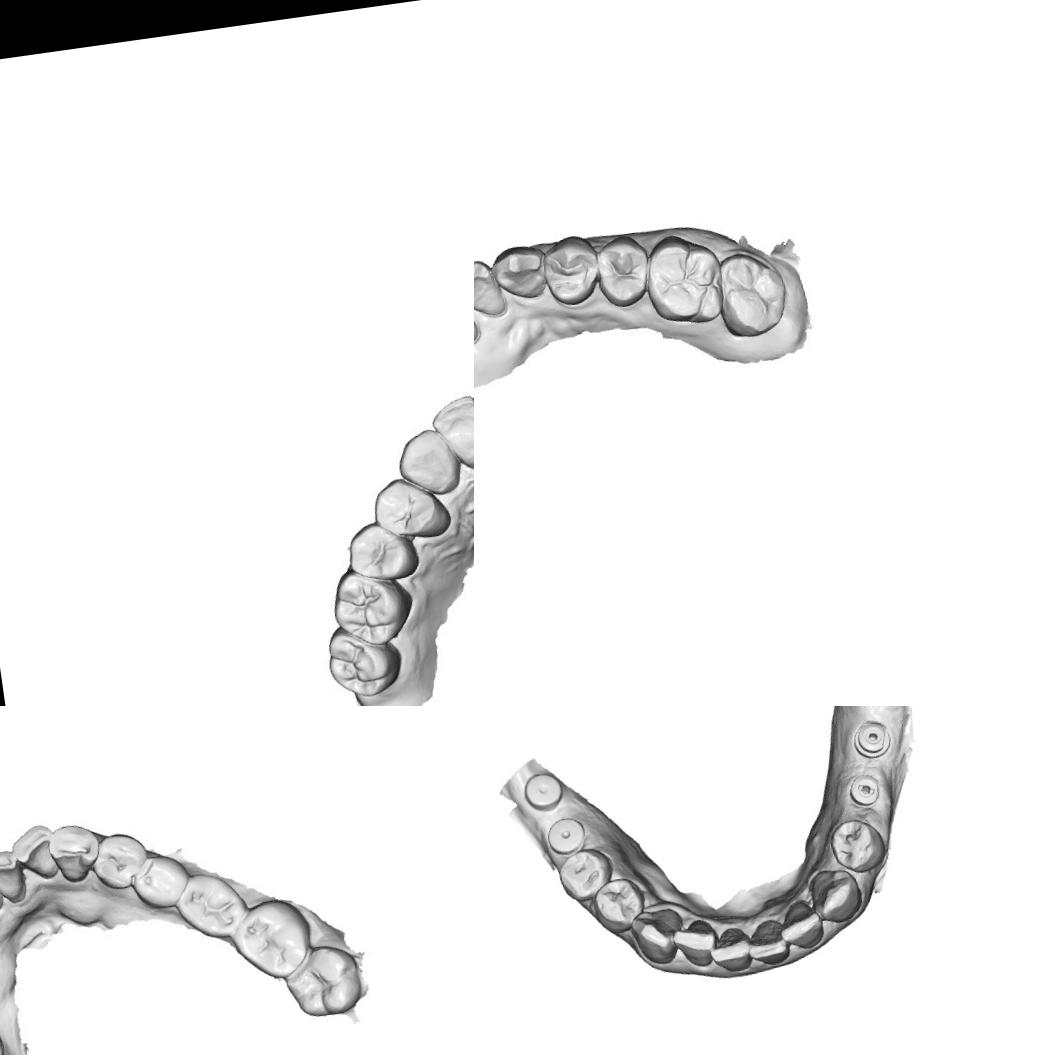canine: (391, 424, 466, 500), (46, 819, 104, 889), (489, 241, 548, 305), (627, 906, 686, 969), (806, 865, 865, 926)
implant: (520, 770, 566, 815), (543, 814, 589, 857), (850, 718, 894, 760)
implant_minus: (846, 772, 883, 810)
incisor: (8, 822, 59, 887), (435, 394, 474, 473), (775, 896, 827, 954), (670, 915, 722, 972), (706, 922, 756, 977), (744, 915, 793, 968), (474, 256, 507, 325), (0, 846, 29, 910)
molar: (638, 225, 730, 330), (225, 895, 316, 986), (710, 246, 790, 342), (278, 940, 363, 1026), (332, 569, 410, 648), (175, 870, 250, 944), (326, 624, 398, 697)
premolar: (591, 230, 656, 310), (538, 231, 604, 309), (370, 476, 448, 538), (88, 830, 154, 893), (826, 812, 889, 877), (348, 522, 416, 582), (554, 845, 616, 905), (588, 874, 648, 936), (130, 853, 190, 912)
